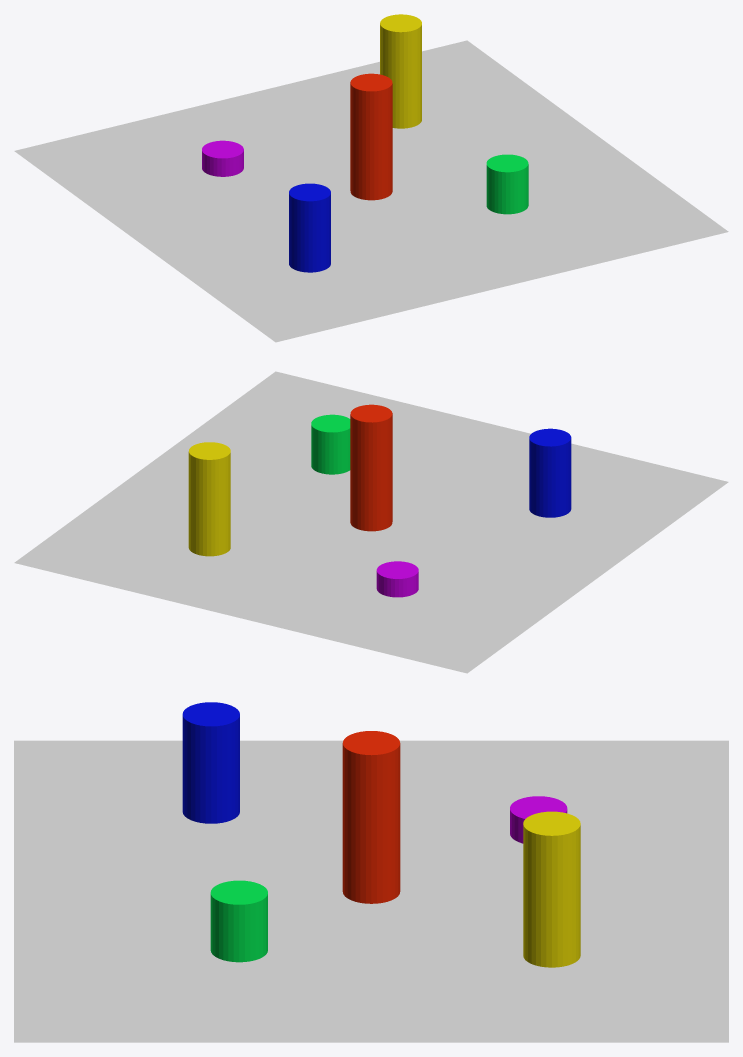
Rendered from shadowDemo.glb.
The picture shows the model from 3 angles, top to bottom: view 1: azimuth 30°, elevation 25°; view 2: azimuth 150°, elevation 25°; view 3: azimuth 270°, elevation 25°; orthographic projection. The views are drawn at different scales.
Parts seen in each view (by area): view 1: Plane, Cylinder, Cylinder.003, Cylinder.002, Cylinder.001, Cylinder.004; view 2: Plane, Cylinder, Cylinder.003, Cylinder.002, Cylinder.001, Cylinder.004; view 3: Plane, Cylinder, Cylinder.003, Cylinder.002, Cylinder.001, Cylinder.004.
Boxes of the visible parts, x1,y1,x2,y2 form: Plane: (14,40,728,342); Cylinder: (350,73,392,200); Cylinder.003: (380,14,421,128); Cylinder.002: (289,183,330,272); Cylinder.001: (486,154,528,214); Cylinder.004: (202,140,243,176); Plane: (14,371,728,673); Cylinder: (350,404,392,531); Cylinder.003: (188,442,230,556); Cylinder.002: (529,428,571,517); Cylinder.001: (311,414,350,474); Cylinder.004: (376,561,418,597); Plane: (14,740,728,1042); Cylinder: (342,731,400,903); Cylinder.003: (523,811,580,967); Cylinder.002: (182,702,239,823); Cylinder.001: (210,880,267,962); Cylinder.004: (510,796,567,843).
Bounding box in the file's own units: 0.6 × 0.1377 × 0.6.
